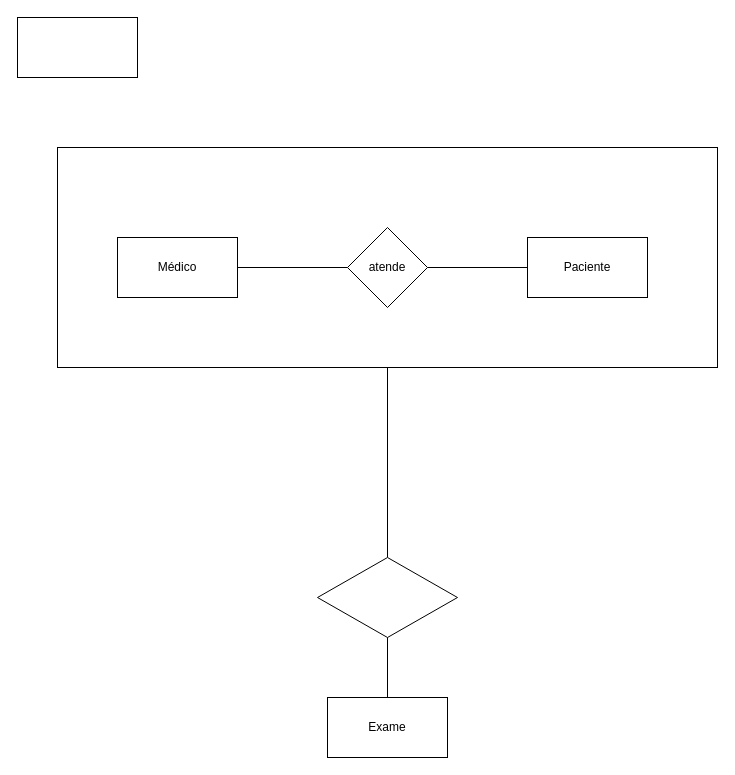
Image size: 735x775. Some labels were removed from this diagram. Here are the shapes that lost their labels. From the top down, the centre of each, then its label:
At pixel 77 47: "Agregação".
At pixel 387 597: "presecreve".
